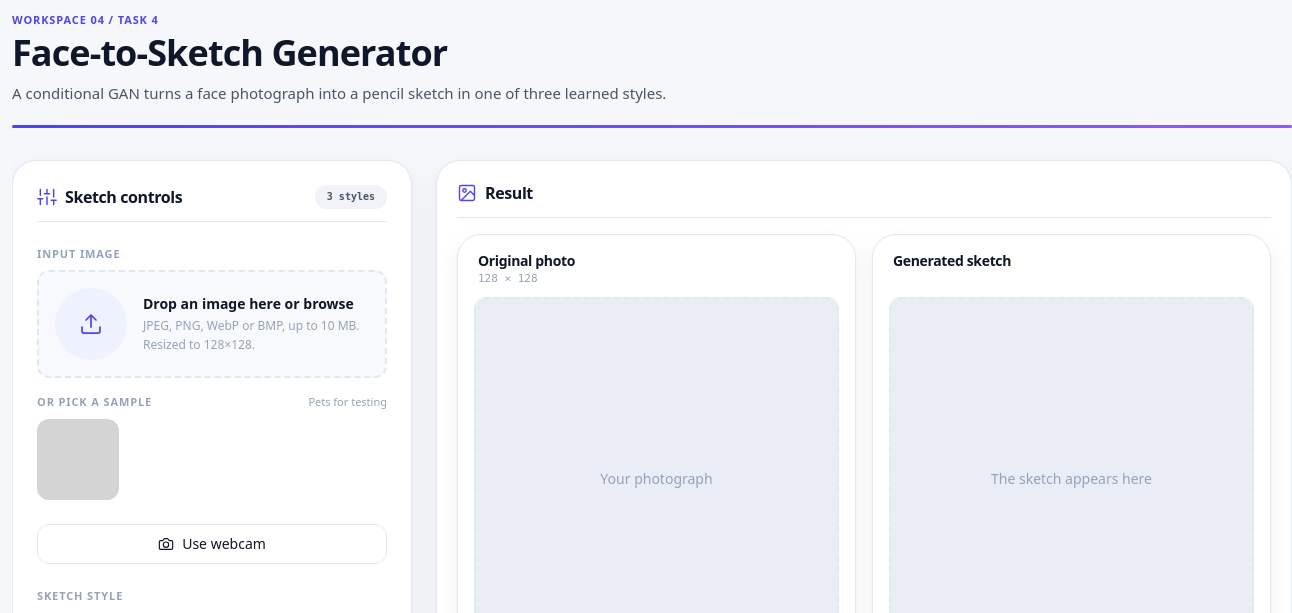
Test: Face-to-Sketch workspace › reports a denied camera permission
Click the button "Use webcam" at (212,544), box [37,524,387,564]
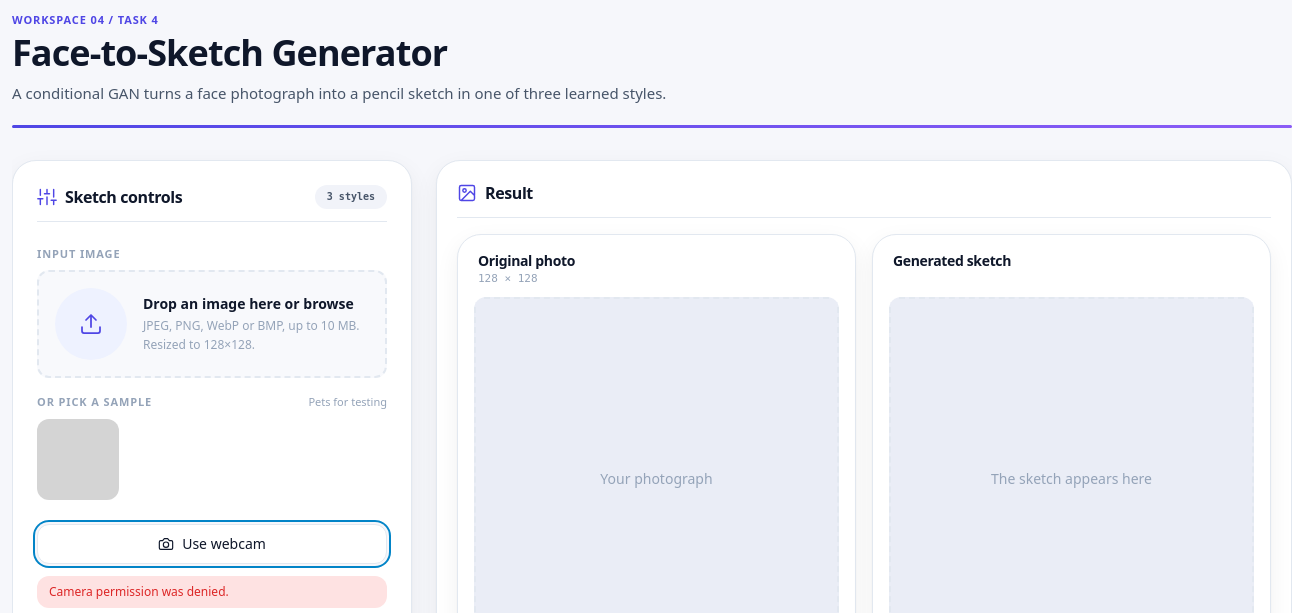
Now the text "Camera permission was denied." is shown, box [37,576,387,608]
